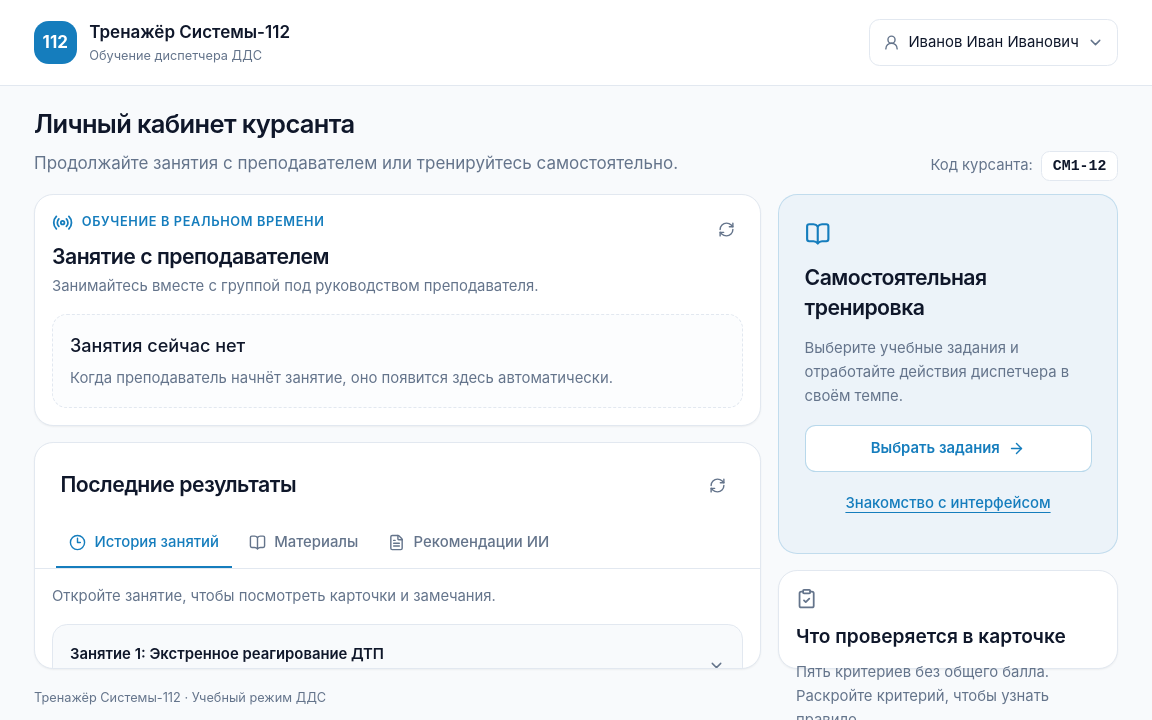
Scenario: ТЗ 48: Личный кабинет ученика и Лобби (Фронтенд) › 1. Личный кабинет ученика (/student/profile) › keeps lesson details accessible and preserves real teacher materials
This screenshot has width=1152, height=720.
Click the heading "Занятие 1: Экстренное реагирование ДТП": (227, 654) x1=70 y1=645 x2=384 y2=663
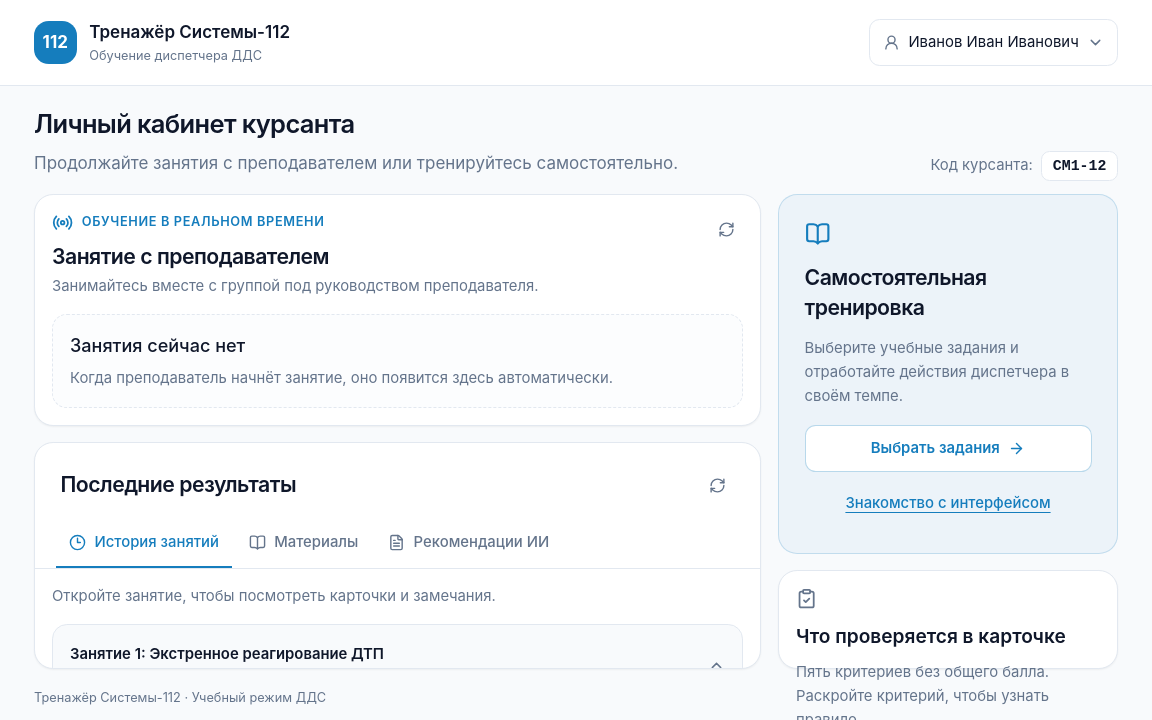
Click the button with aria-label "Справочные материалы": (304, 544) x1=236 y1=519 x2=371 y2=568
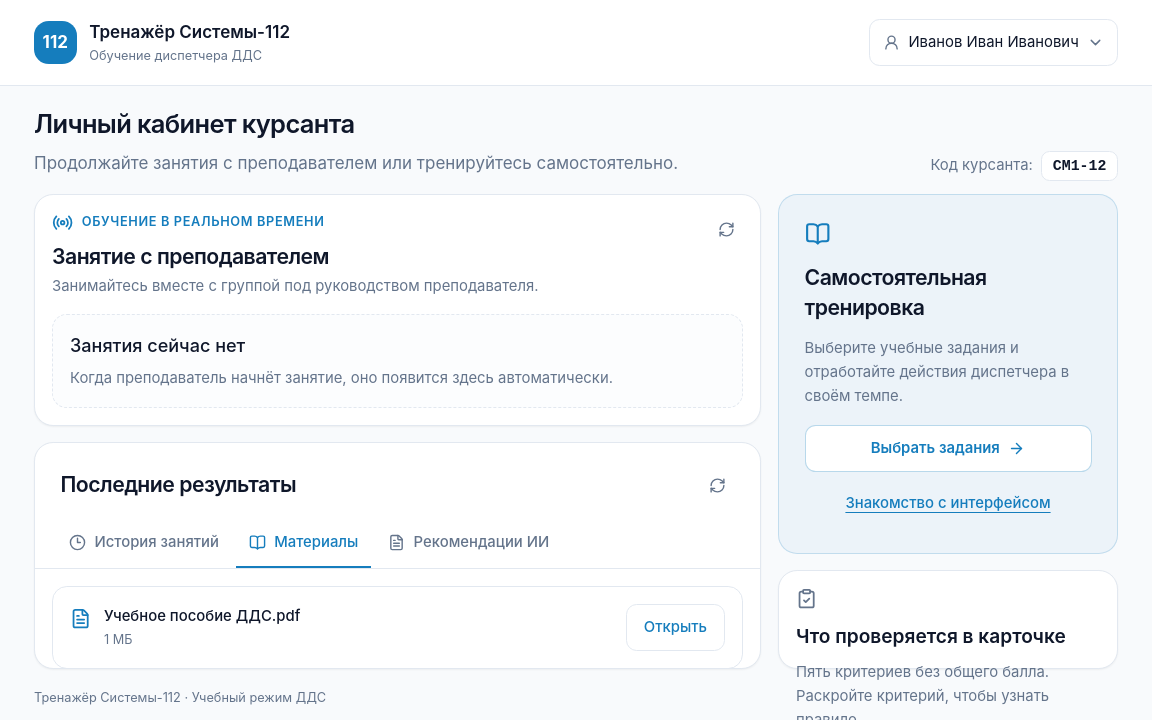
Expected: the heading "Учебное пособие ДДС.pdf" is shown, x1=104 y1=606 x2=300 y2=627
